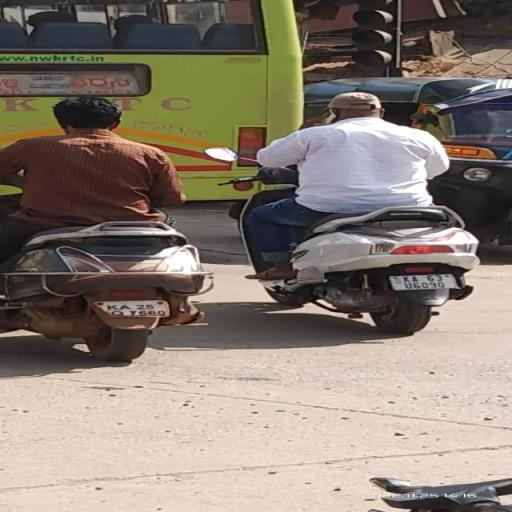bike: (206, 89, 489, 339)
numberplate: (393, 273, 461, 290)
withouthelmet: (330, 92, 381, 118)
